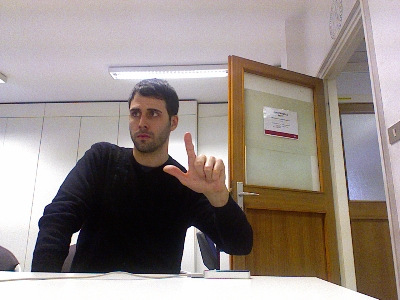枪: (162, 131, 226, 196)
